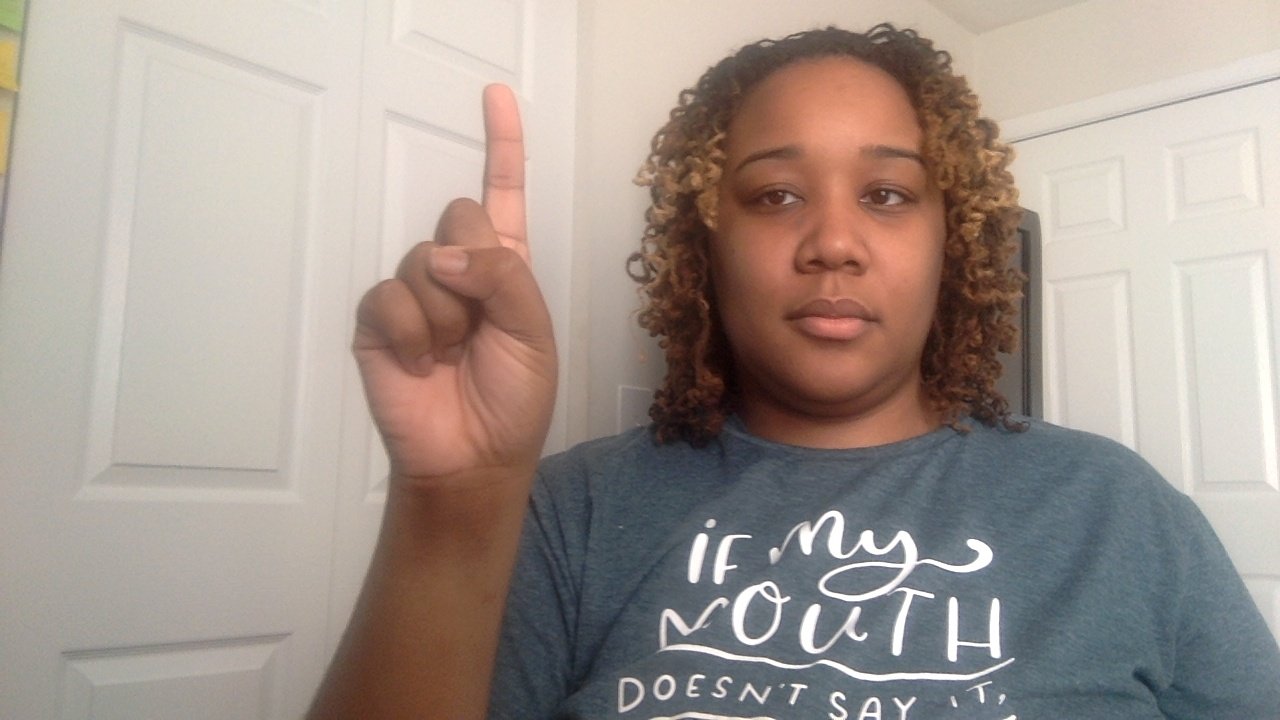up: (330, 68, 592, 720)
